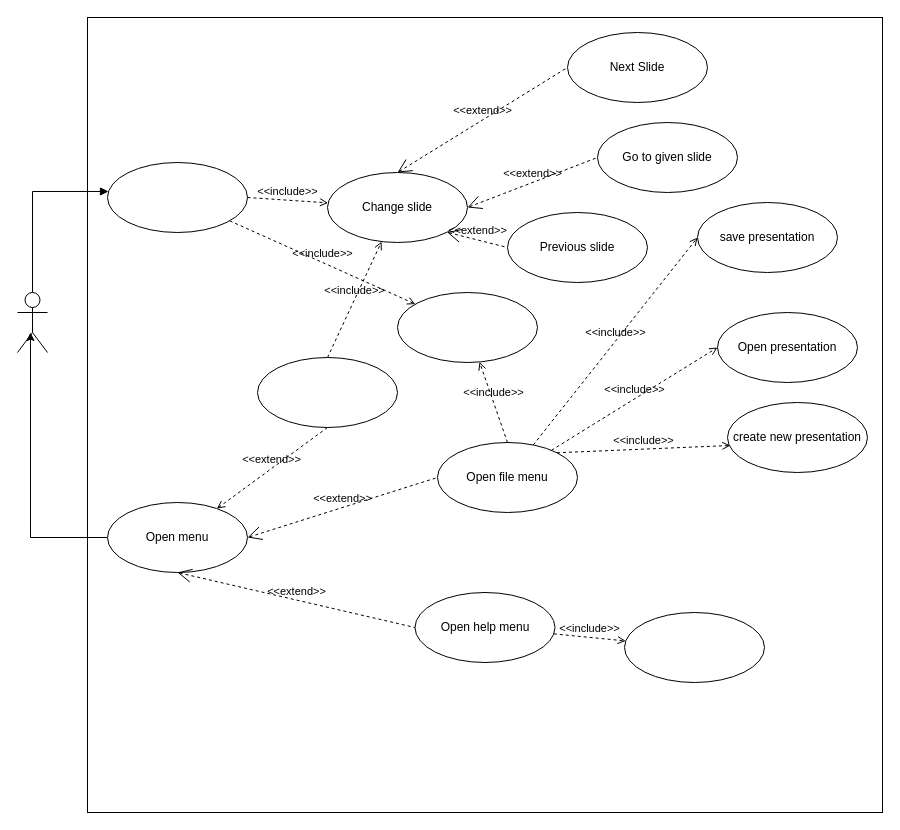
The diagram is 900 pixels wide and 830 high, and some of its shapes have lost their labels. The centre of each missing label's shape, as x and y in pixels:
"Exit application" belongs at (x=467, y=327).
"Open About window" belongs at (x=694, y=647).
"Open view menu" belongs at (x=327, y=392).
"Use keys to controll apliation" belongs at (x=177, y=197).
"User" belongs at (x=32, y=322).
